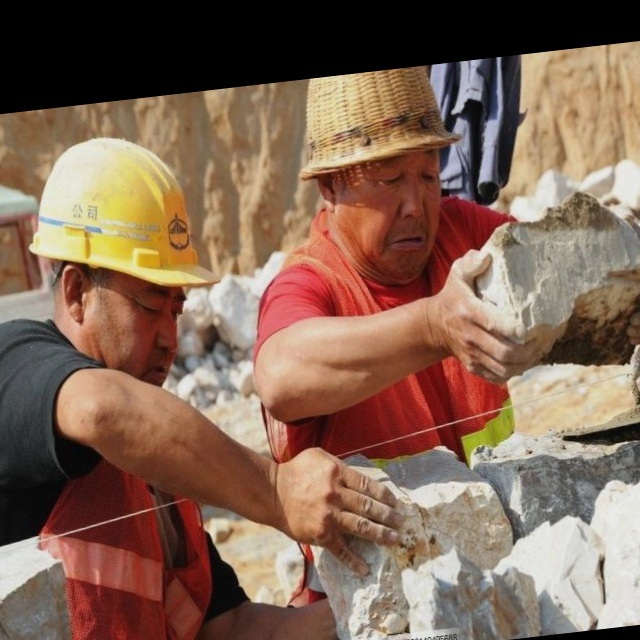Con_Casco: (19, 124, 230, 387)
Sin_Casco_Mascarrilla: (294, 63, 471, 260)
